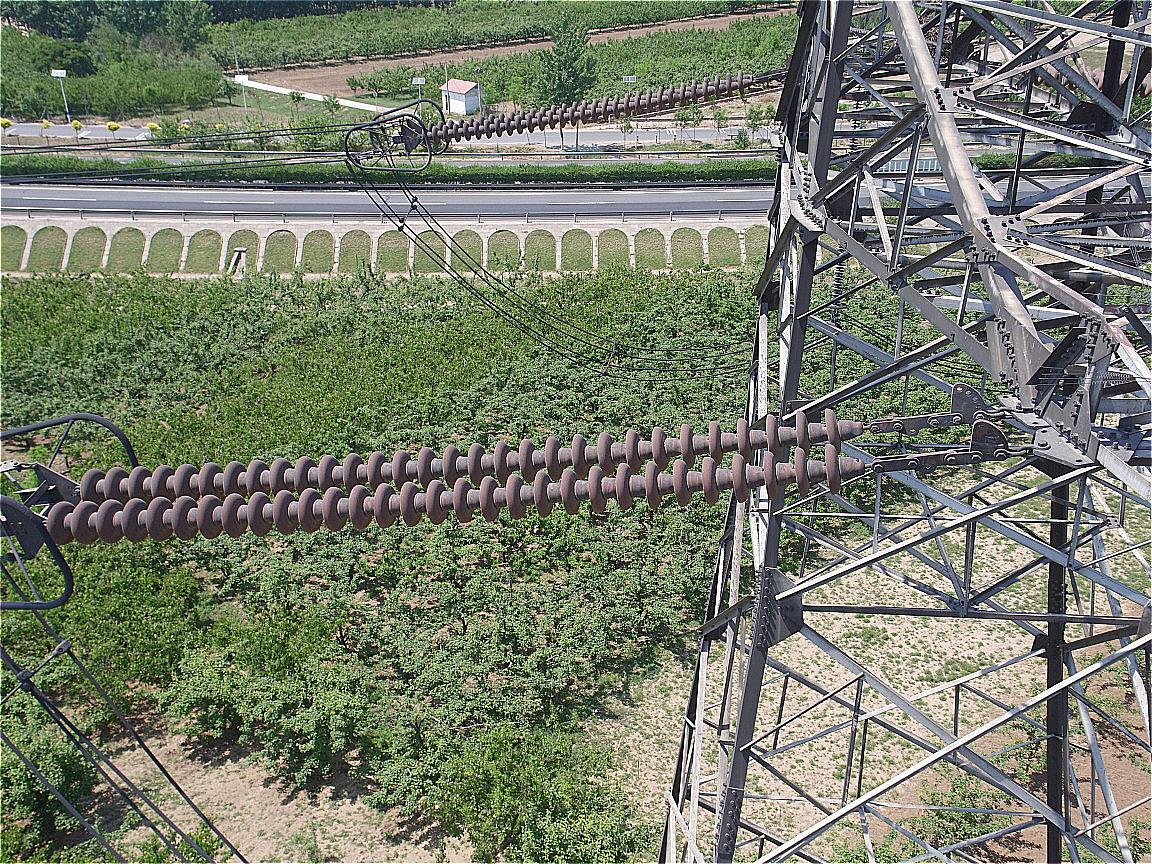insultor1: (42, 393, 881, 543), (395, 69, 769, 160)
